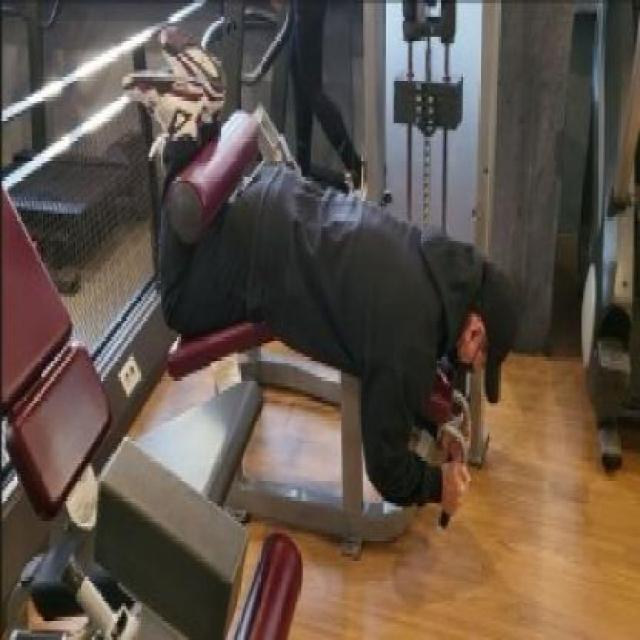reg curl machine: (116, 0, 510, 563)
